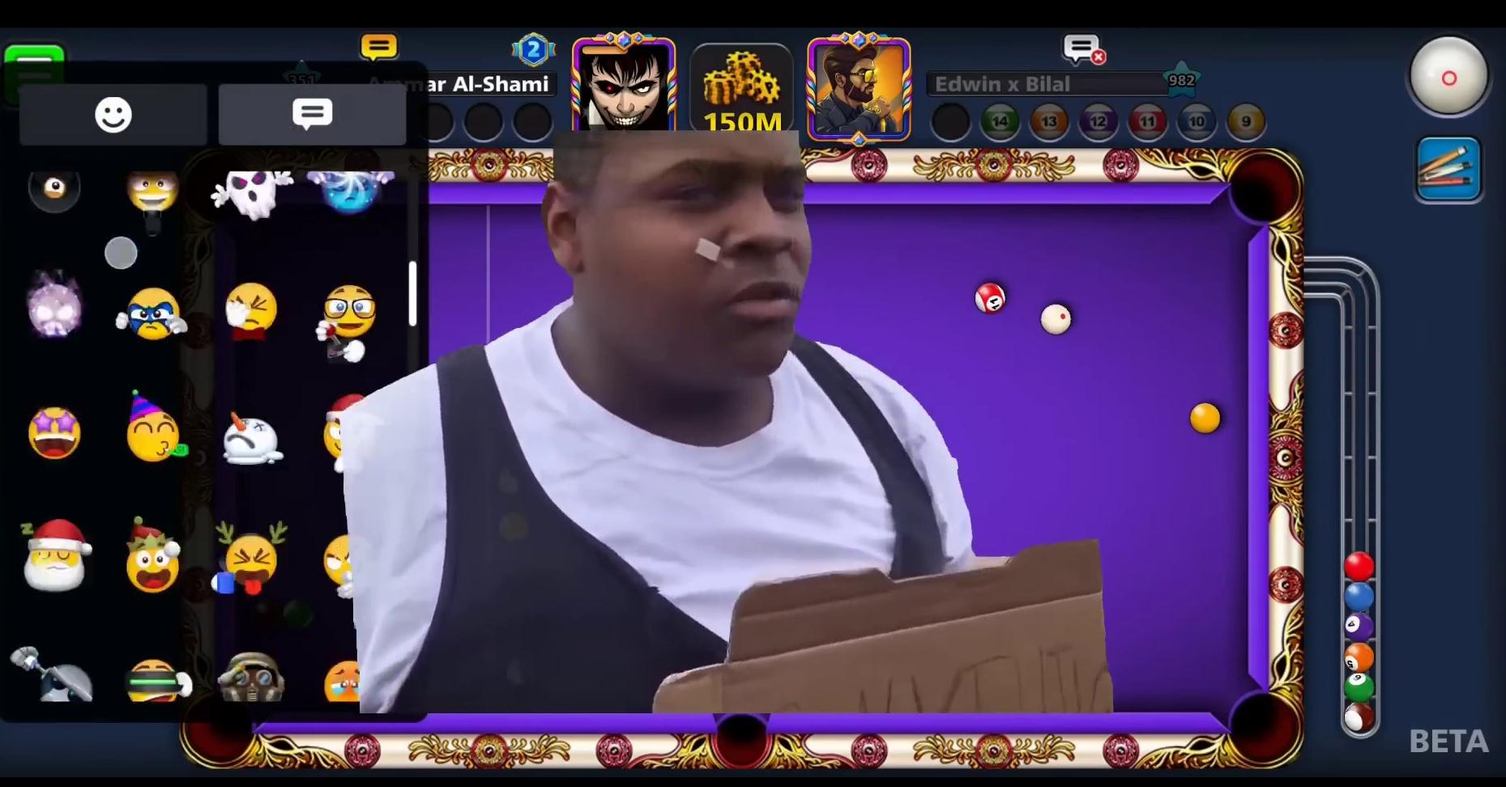Ball: (967, 280, 1011, 318), (1184, 398, 1226, 436)
Hole: (1218, 681, 1306, 775), (1220, 143, 1303, 236), (167, 717, 267, 776), (703, 708, 777, 775)
Spin: (1402, 28, 1504, 130)
White: (1035, 300, 1080, 337)
